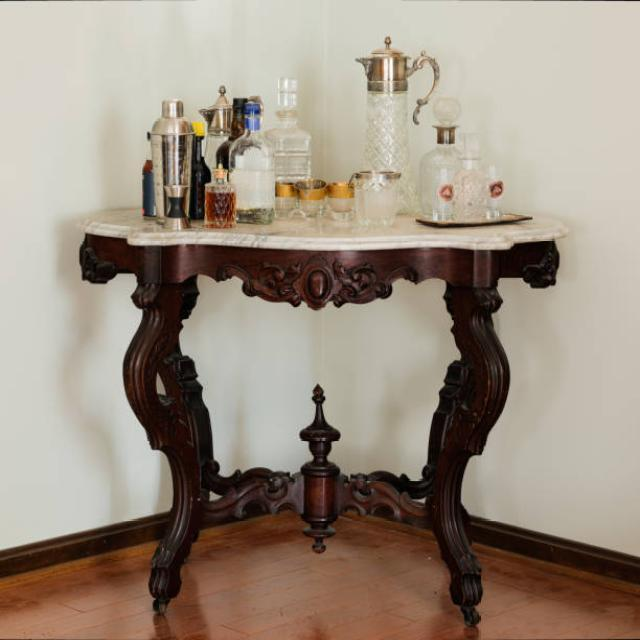table: (77, 205, 568, 624)
